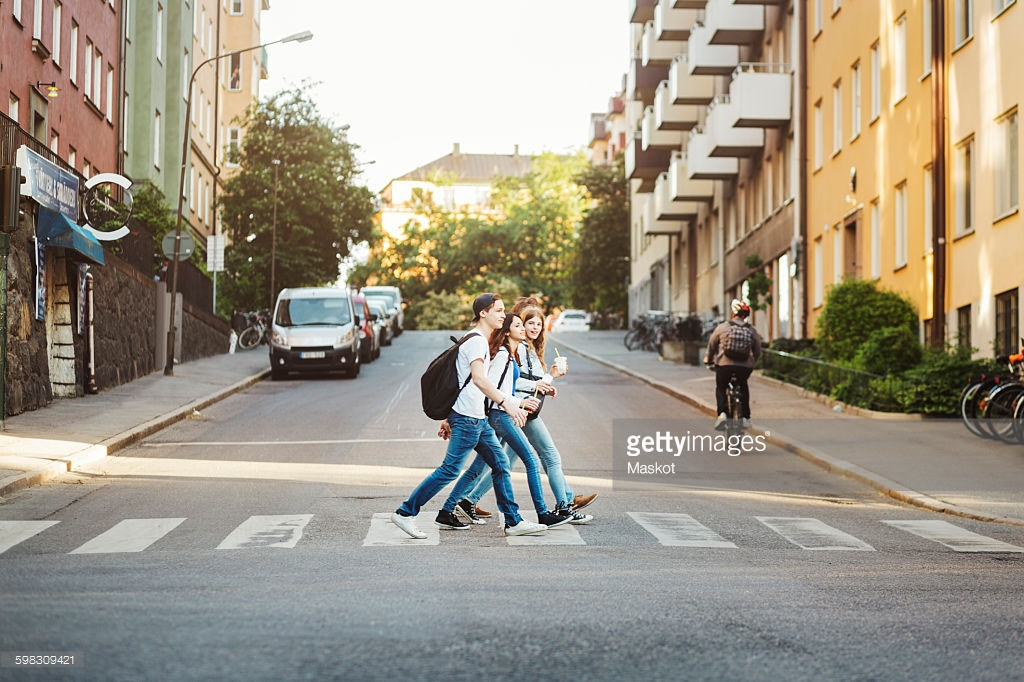pedestrian: (376, 293, 553, 540), (456, 313, 564, 533)
